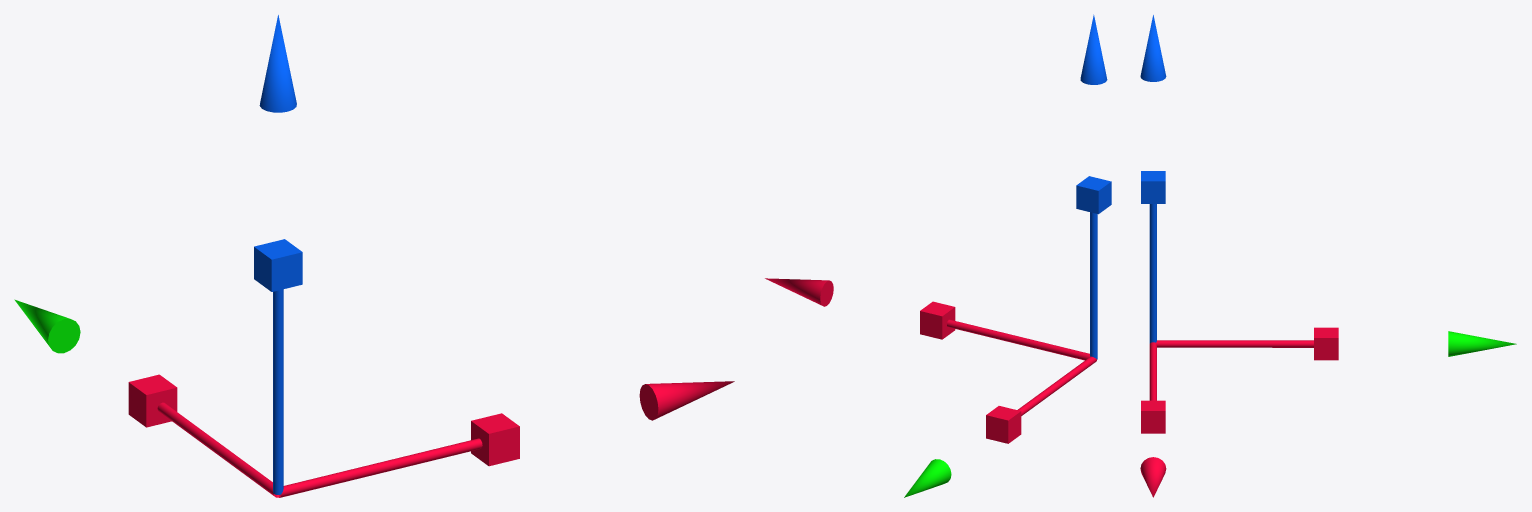
The model's file is tdme_gizmo_all.fbx.
The picture shows the model from 3 angles, left to right: view 1: azimuth 30°, elevation 25°; view 2: azimuth 150°, elevation 25°; view 3: azimuth 270°, elevation 25°; orthographic projection. The views are drawn at different scales.
Parts seen in each view (by area): view 1: all_scale_z, all_scale_x, all_scale_y, all_translate_z, all_translate_x, all_translate_y; view 2: all_scale_z, all_scale_x, all_scale_y, all_translate_z, all_translate_x, all_translate_y; view 3: all_scale_y, all_scale_z, all_scale_x, all_translate_z, all_translate_y, all_translate_x.
Part boxes in pixels (box(x1,y1,x2,y2)): all_scale_z: box(254, 239, 302, 494); all_scale_x: box(276, 413, 519, 497); all_scale_y: box(128, 374, 280, 497); all_translate_z: box(259, 15, 296, 112); all_translate_x: box(639, 381, 734, 420); all_translate_y: box(14, 299, 80, 353); all_scale_z: box(1076, 176, 1111, 359); all_scale_x: box(920, 301, 1090, 360); all_scale_y: box(986, 356, 1096, 443); all_translate_z: box(1080, 14, 1107, 84); all_translate_x: box(765, 278, 833, 306); all_translate_y: box(904, 459, 951, 497); all_scale_y: box(1156, 327, 1338, 360); all_scale_z: box(1141, 171, 1165, 343); all_scale_x: box(1141, 342, 1165, 433); all_translate_z: box(1140, 15, 1166, 81); all_translate_y: box(1448, 331, 1516, 356); all_translate_x: box(1140, 457, 1166, 497).
Bounding box in the file's own units: 153 × 153 × 153.
